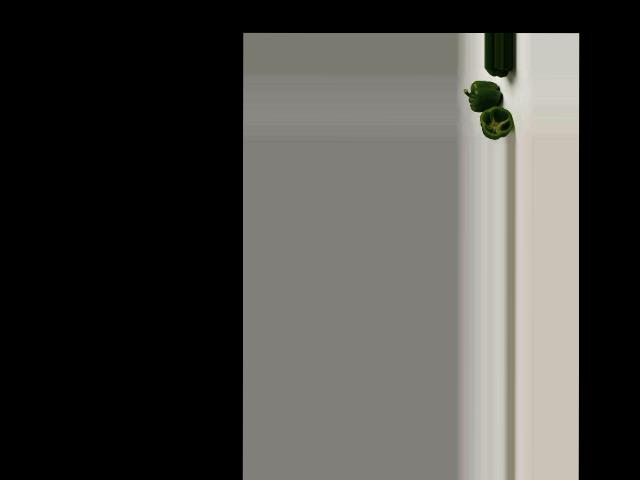bell_pepper: (476, 104, 515, 141)
